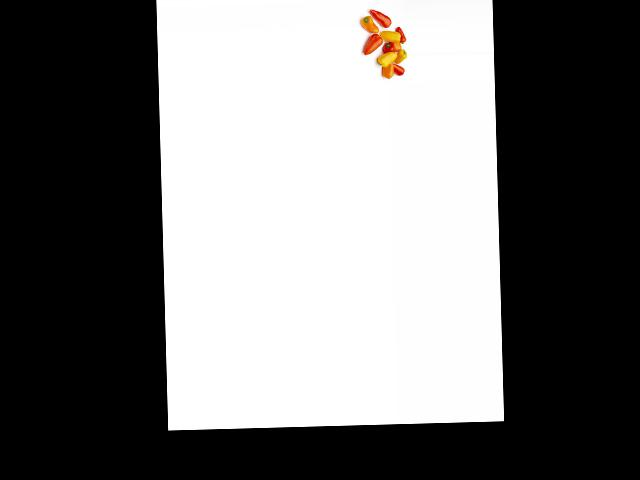bell_pepper: (397, 24, 406, 44)
